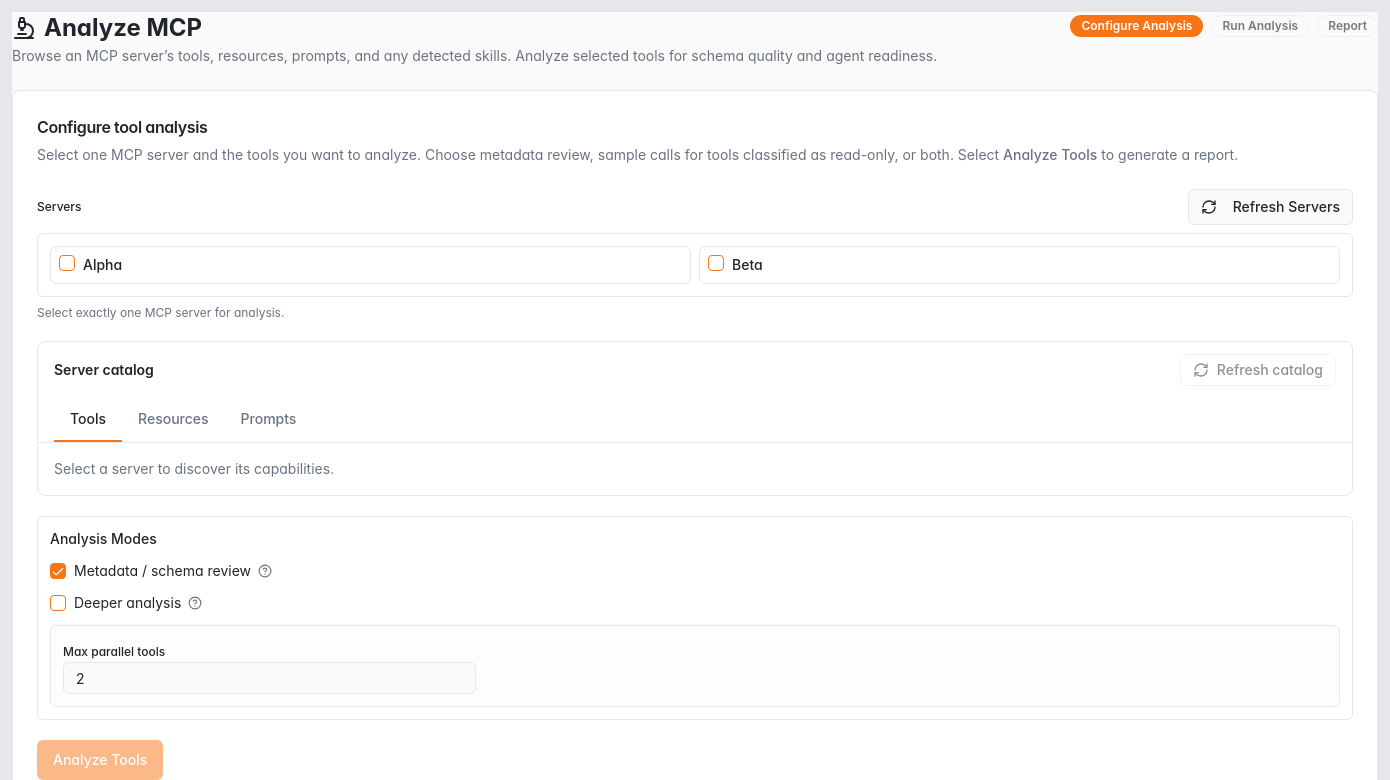
Test: Analyze MCP catalog › cancels a dismissed preview and only shows the current result when reopened
The image size is (1390, 780).
Later steps or results of the test are not shown.
Click the checkbox named "Alpha" next to "Alpha". click: click(67, 263)
box: [59,255,75,271]
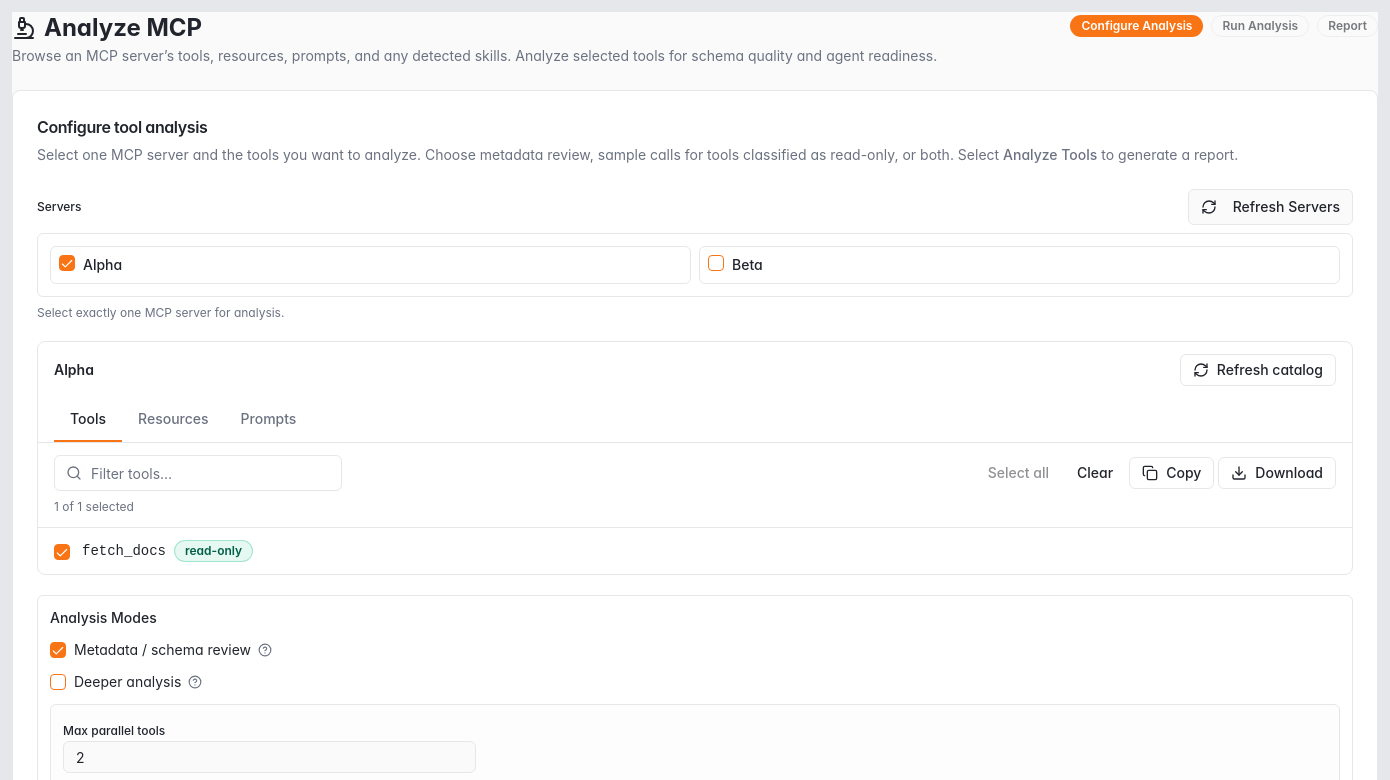
Now the text "fetch_docs" is shown, box [82,541,166,561]
